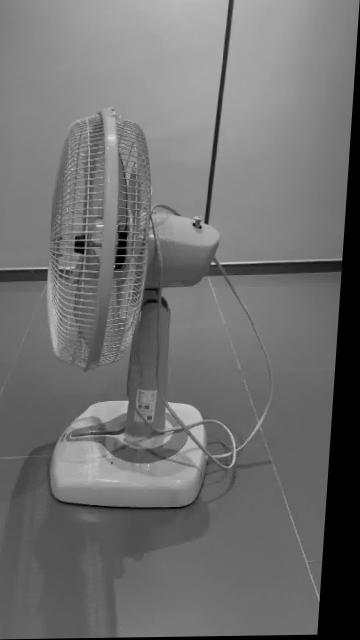Fan: (50, 109, 224, 511)
